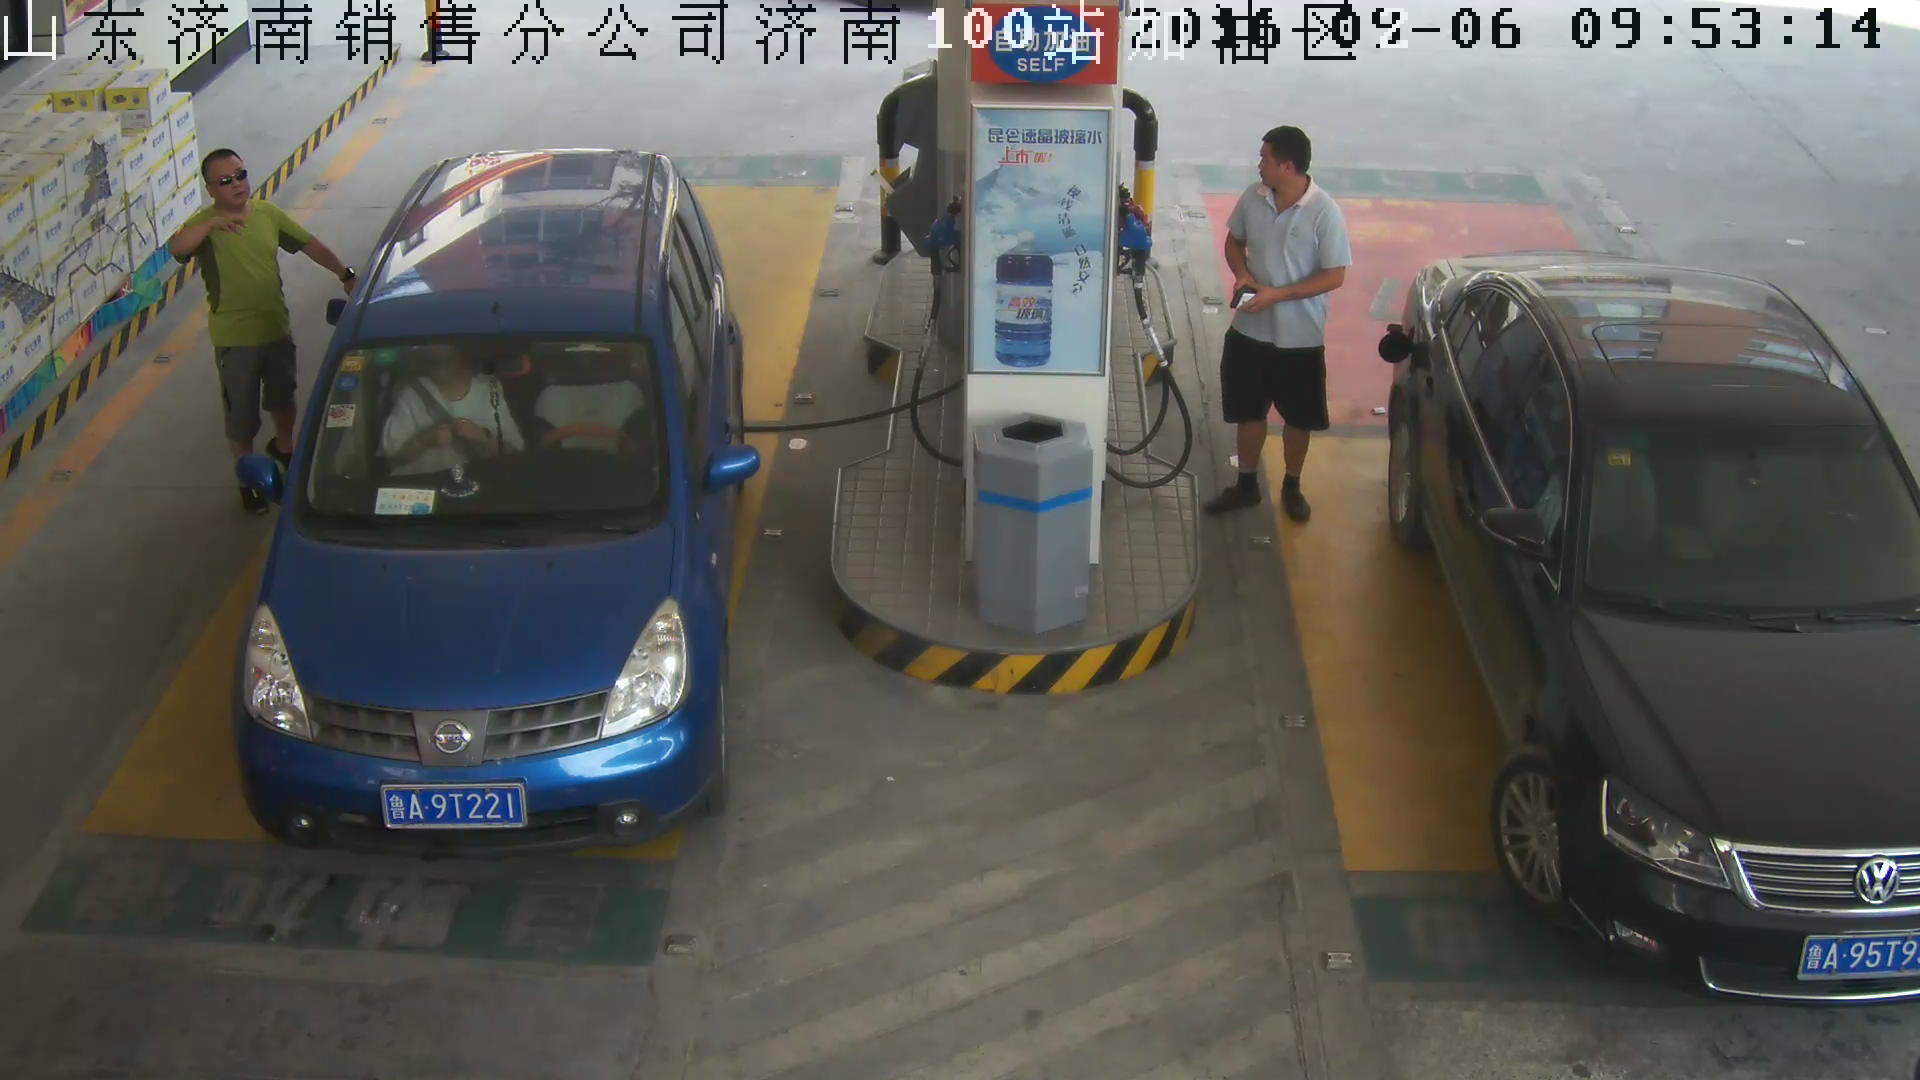blue: (381, 781, 529, 832)
